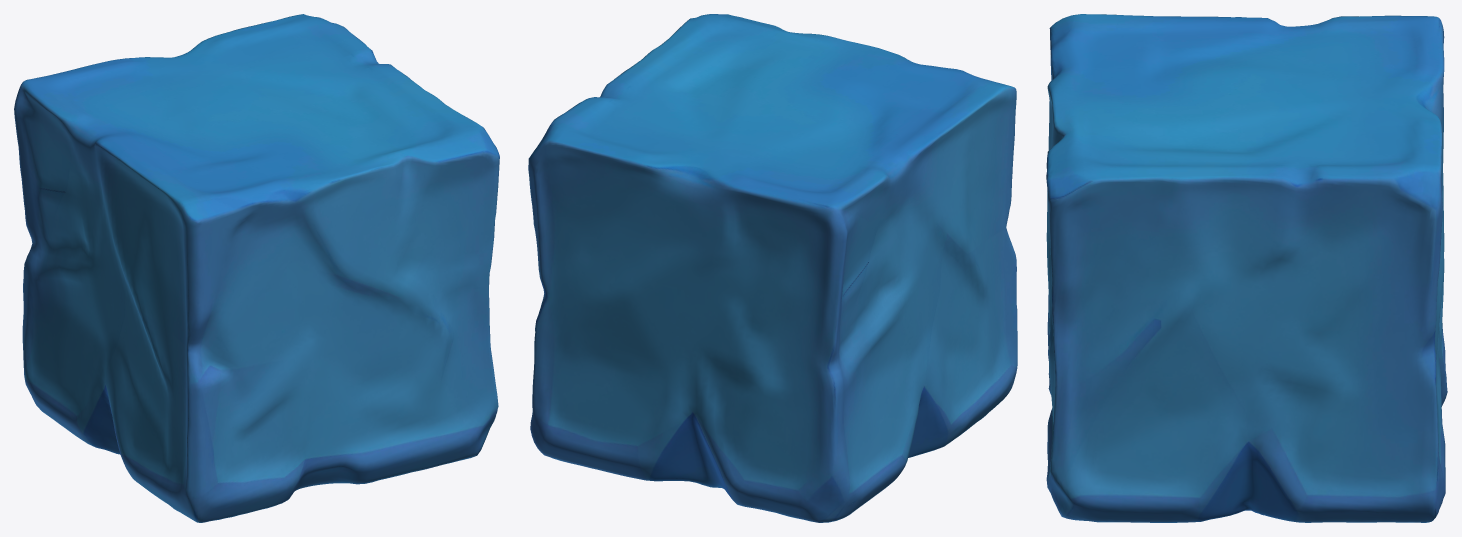
File: Ice.fbx
The picture shows the model from 3 angles, left to right: view 1: azimuth 30°, elevation 25°; view 2: azimuth 150°, elevation 25°; view 3: azimuth 270°, elevation 25°; orthographic projection. The views are drawn at different scales.
Visible parts, largest first — view 1: tripo_node_b6bd99e9; view 2: tripo_node_b6bd99e9; view 3: tripo_node_b6bd99e9.
Boxes of the visible parts, x1,y1,x2,y2 form: tripo_node_b6bd99e9: (14,14,499,522); tripo_node_b6bd99e9: (528,14,1017,522); tripo_node_b6bd99e9: (1046,14,1447,522).
Size of the model in its own units: 98.61 by 99.84 by 99.02.
Materials: 1 (1 with a texture image).
